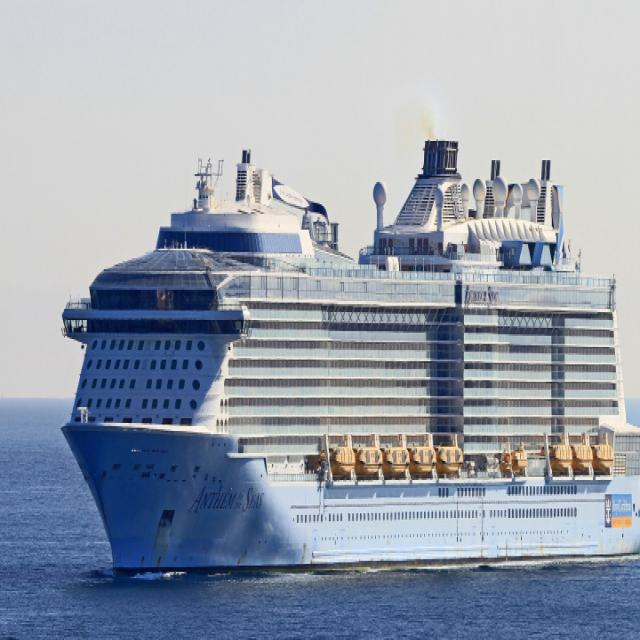cruises: (59, 126, 640, 584)
